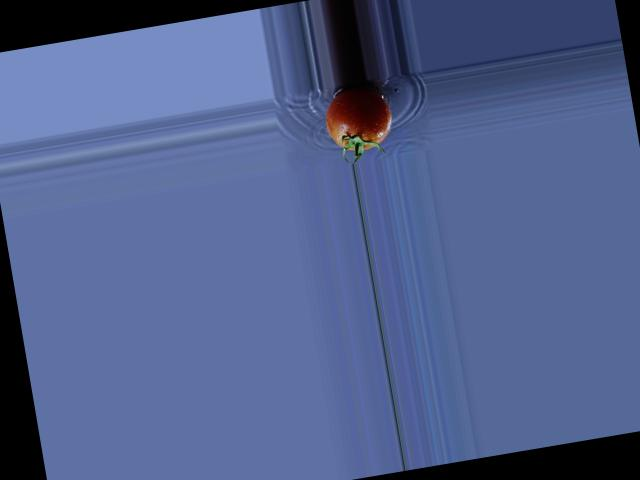tomato: (321, 81, 395, 154)
